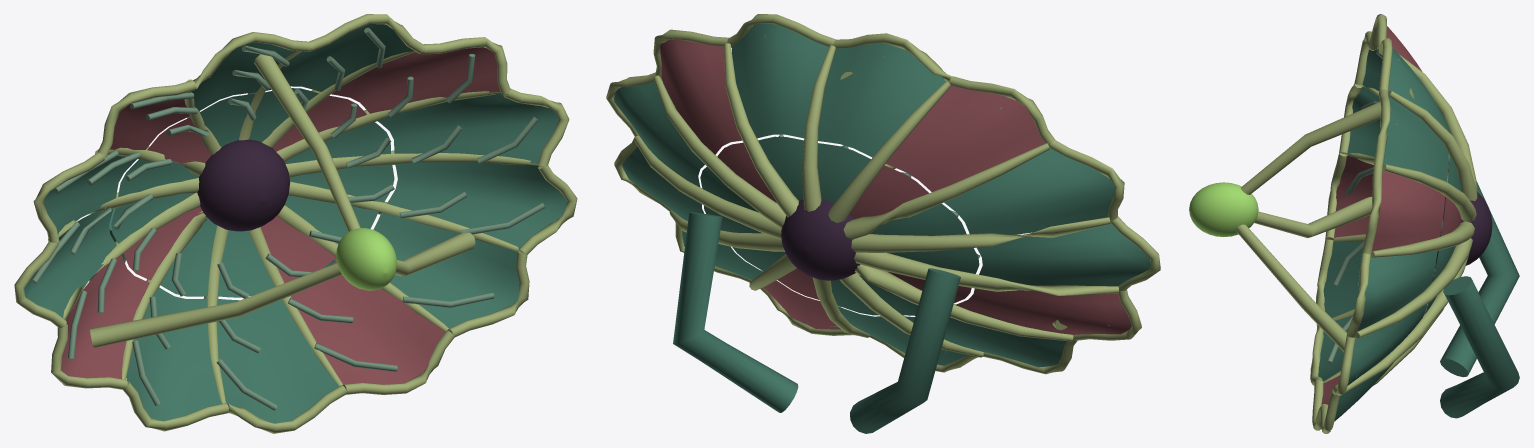
The model's file is sensory_fan.glb.
3 renders of one model, left to right at view 1: azimuth 30°, elevation 25°; view 2: azimuth 150°, elevation 25°; view 3: azimuth 270°, elevation 25°, orthographic. The views are drawn at different scales.
Parts seen in each view (by area): view 1: sensory_fan; view 2: sensory_fan; view 3: sensory_fan.
Boxes of the visible parts, left/top/right/bottom form: sensory_fan: left=14, top=14, right=577, bottom=433; sensory_fan: left=606, top=14, right=1160, bottom=433; sensory_fan: left=1189, top=14, right=1519, bottom=433.
Size of the model in its own units: 8.82 by 5.63 by 4.95.
